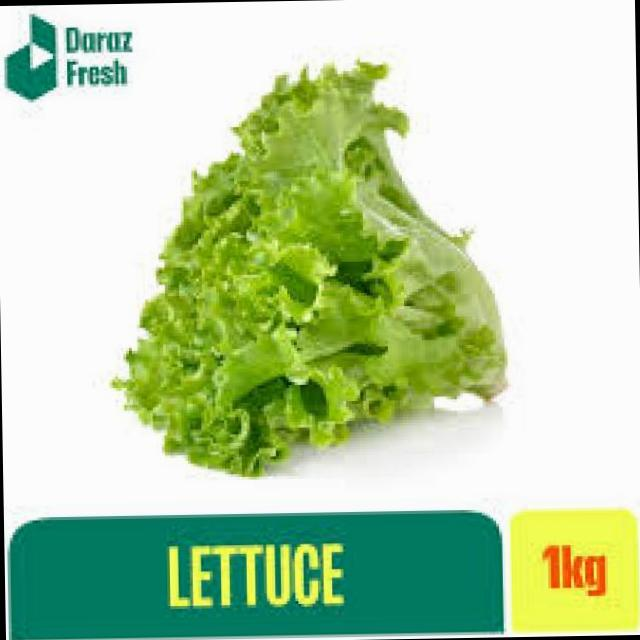Lettuce-Ready-to-Harvest: (116, 62, 506, 474)
